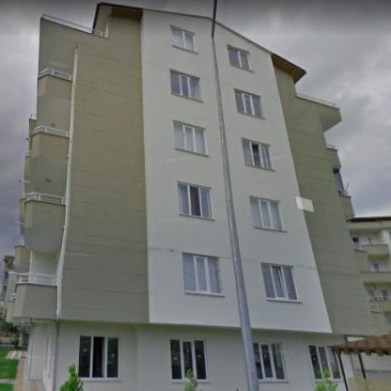door: (373, 263, 381, 272), (368, 290, 375, 299), (366, 237, 373, 245), (390, 318, 391, 332)
